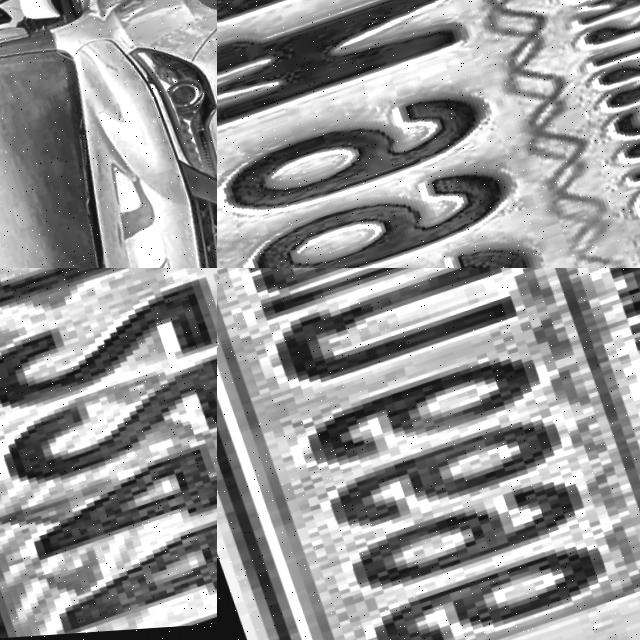license-plate: (217, 268, 640, 640), (217, 0, 640, 268), (0, 268, 217, 640)
